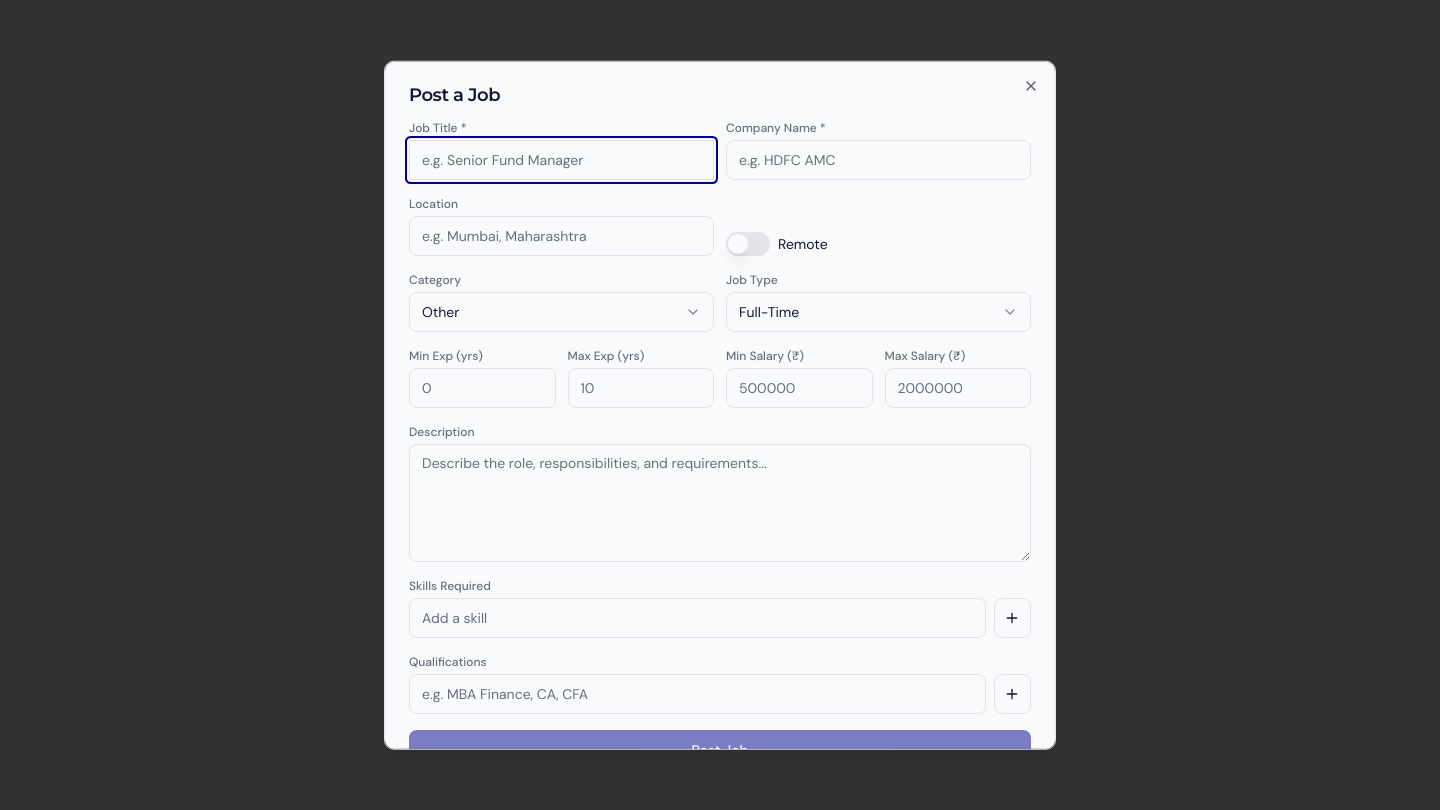
Scenario: PostJobDialog Integration › adds and removes skills
This screenshot has width=1440, height=810.
Step 1. Type "React" into the field with placeholder "Add a skill" → (697, 618), box x1=409 y1=598 x2=986 y2=638
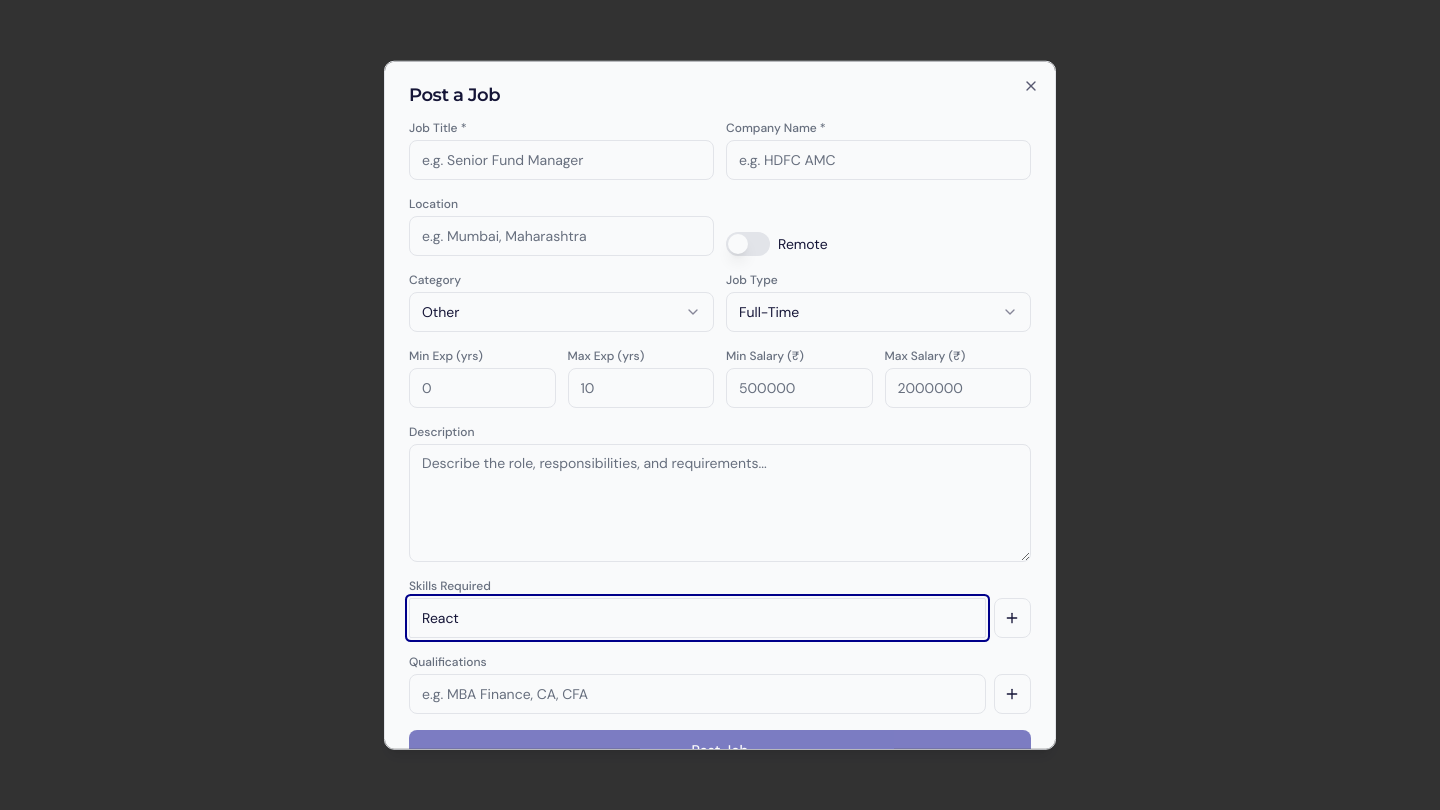
Step 2. Press Enter
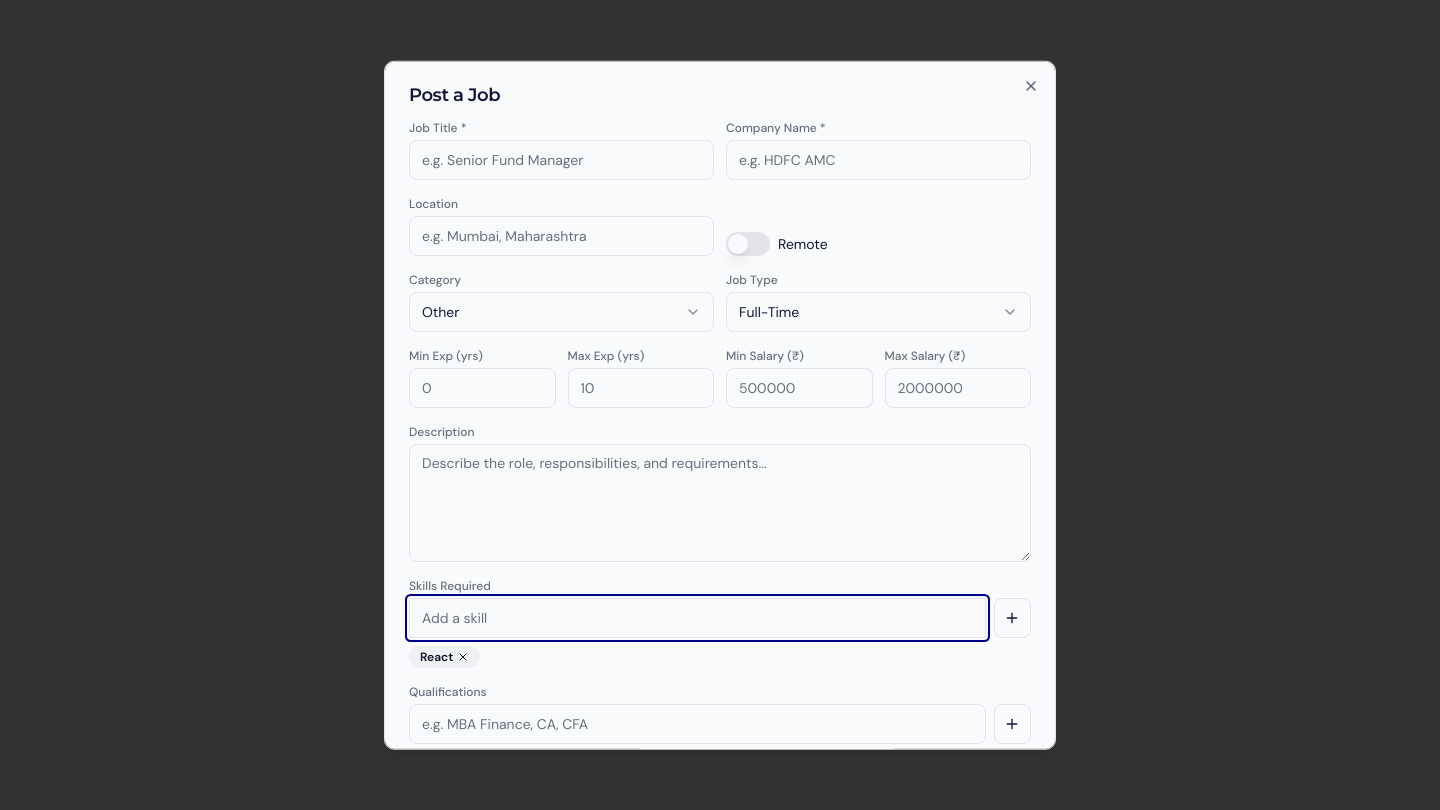
Now the text "React" is shown, box x1=409 y1=646 x2=480 y2=668
Step 3. Type "TypeScript" into the field with placeholder "Add a skill" → (697, 618), box x1=409 y1=598 x2=986 y2=638
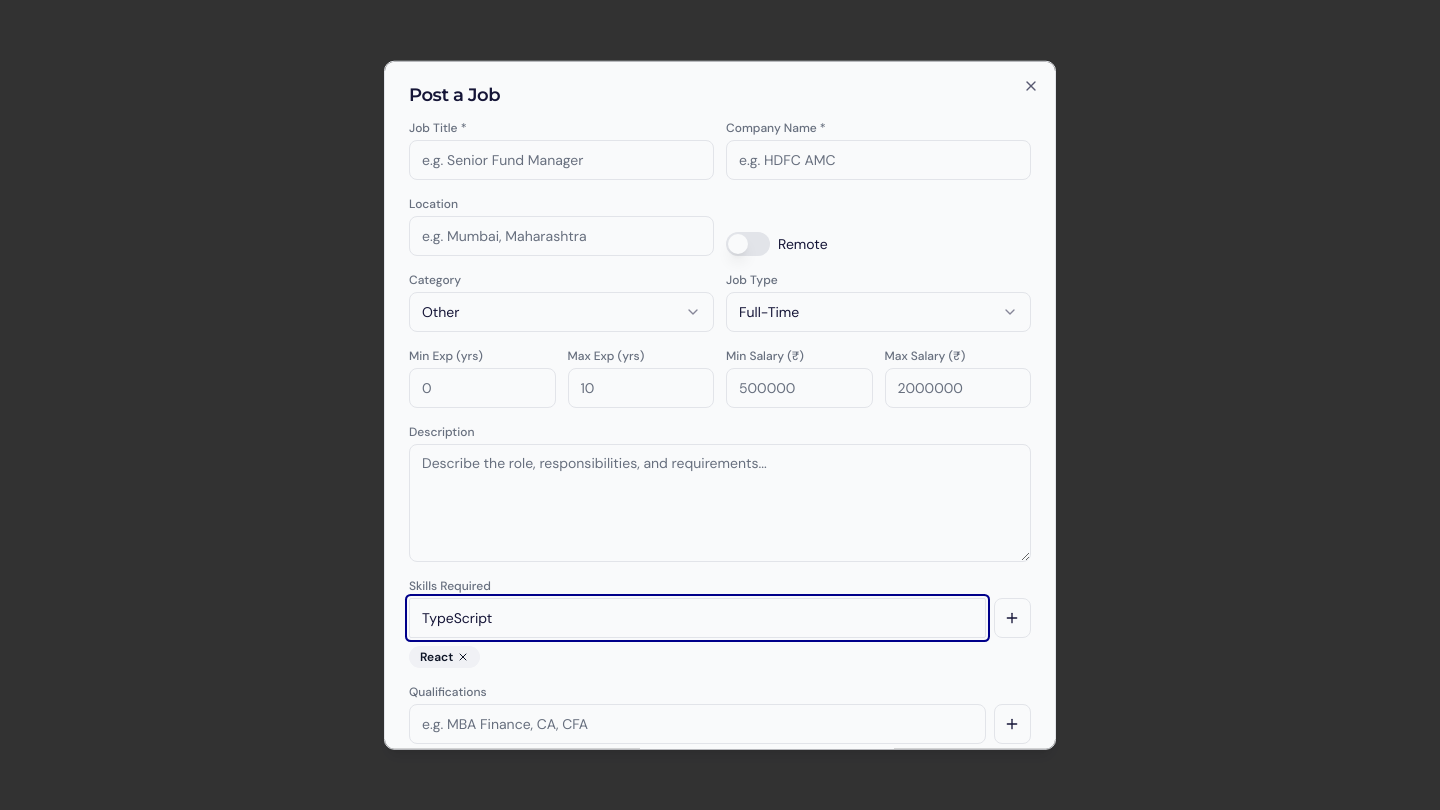
Step 4. Press Enter
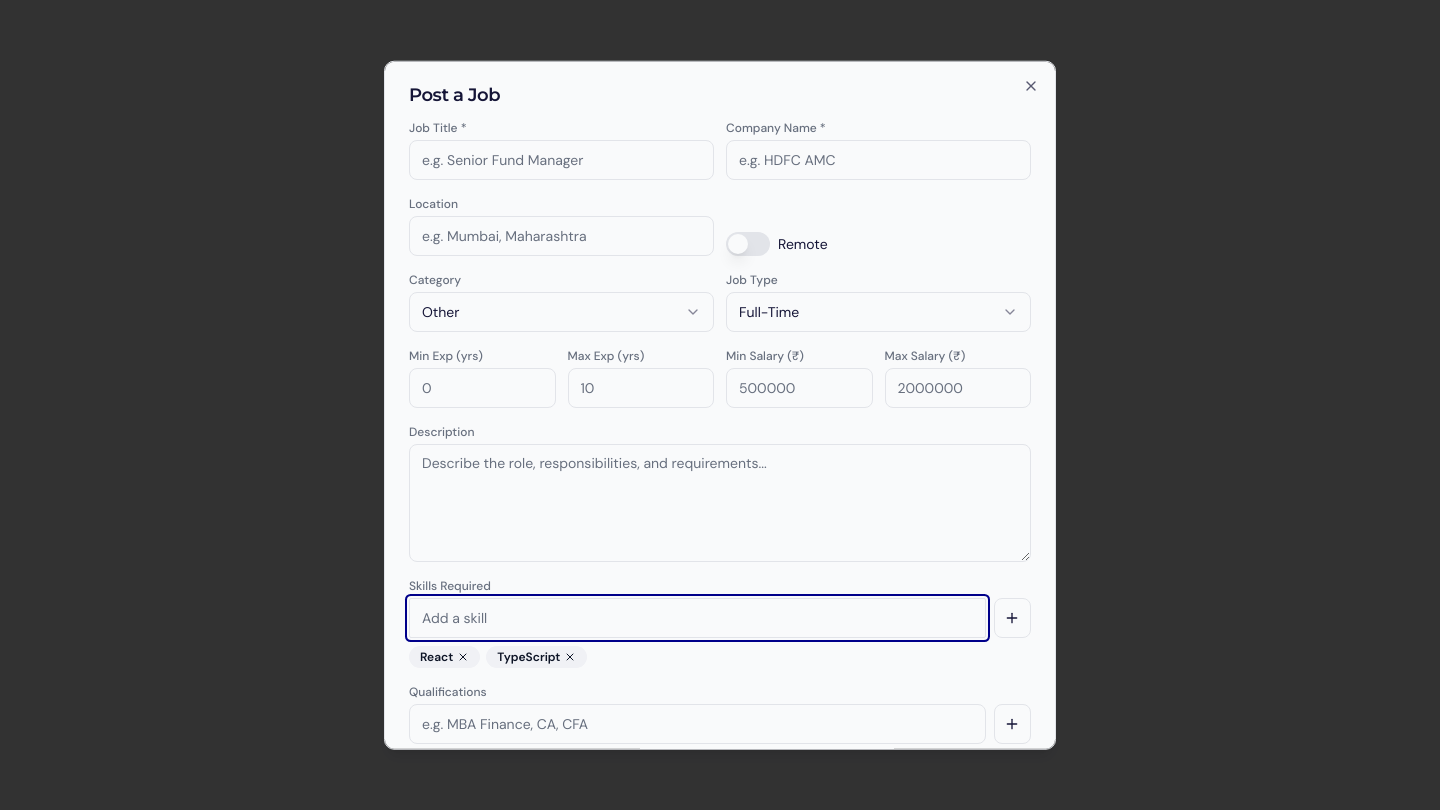
Now the text "TypeScript" is shown, box x1=486 y1=646 x2=587 y2=668
// Remove React skill by clicking the X svg inside the badge
Step 5. Click the icon with class "cursor-pointer" next to "React" → (463, 657), box x1=457 y1=651 x2=469 y2=663
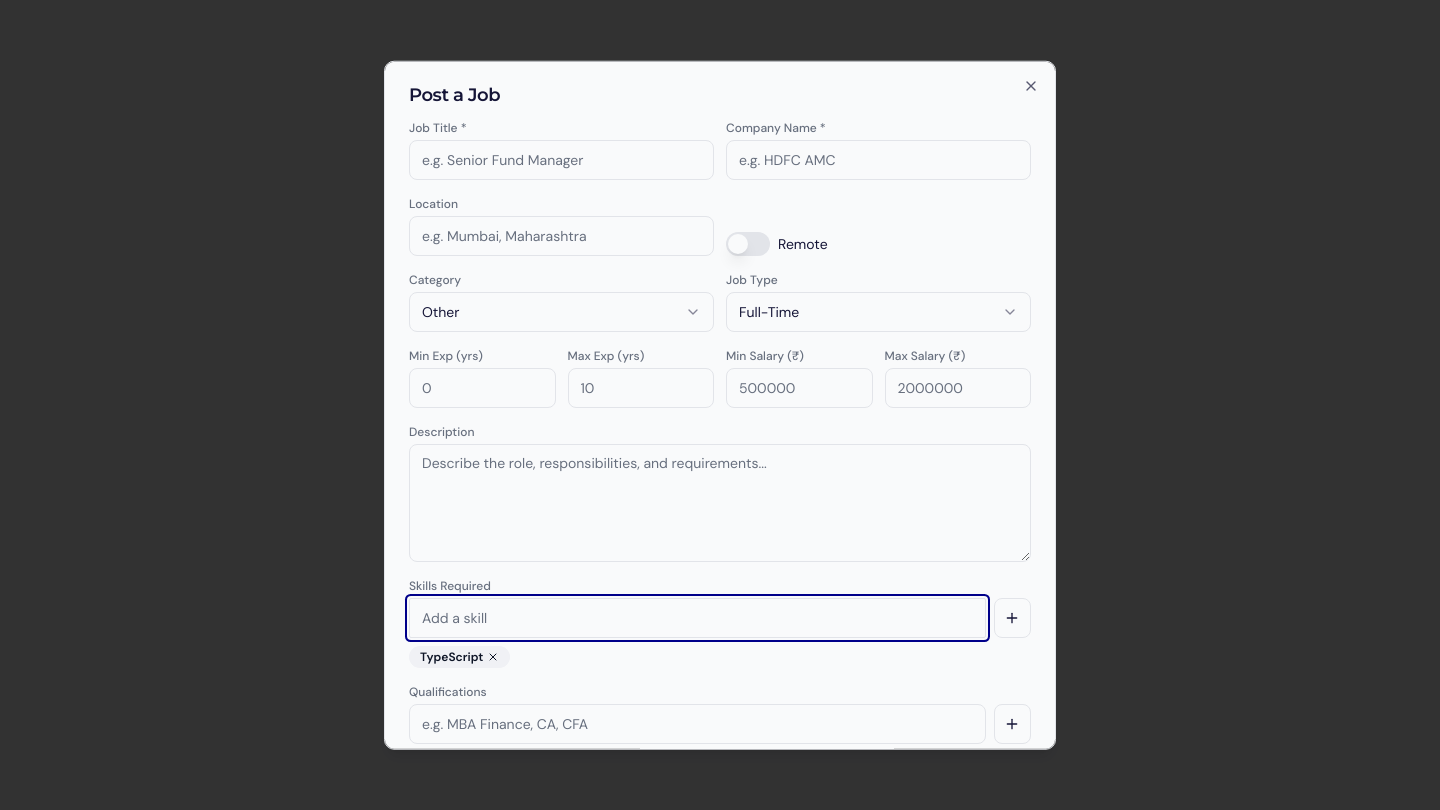
Now the text "React" is gone
